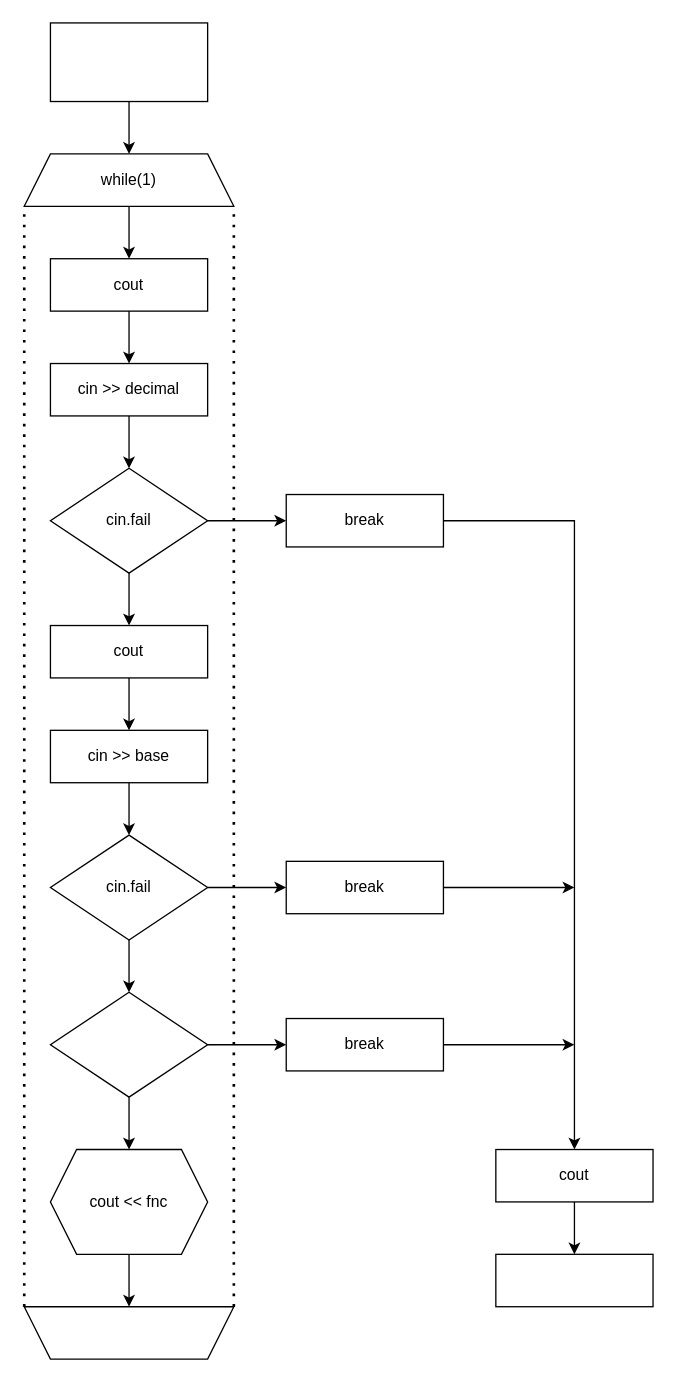
The diagram is 676 pixels wide and 1382 high, and some of its shapes have lost their labels. Each missing label, with the centre of its shape:
2 <= base <= 16: point 128,1044
スタート: point 128,62
終了: point 574,1280
